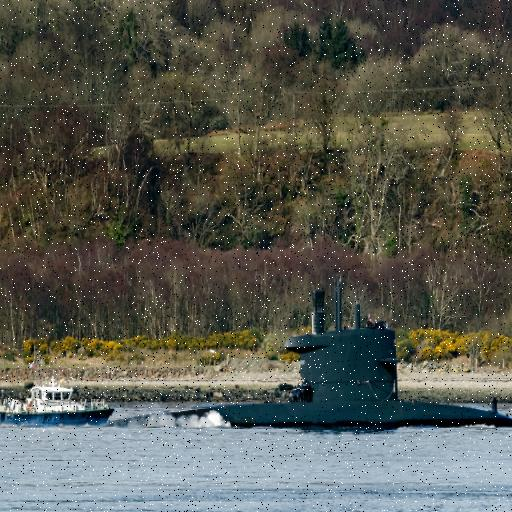submarine: (121, 336, 512, 429)
